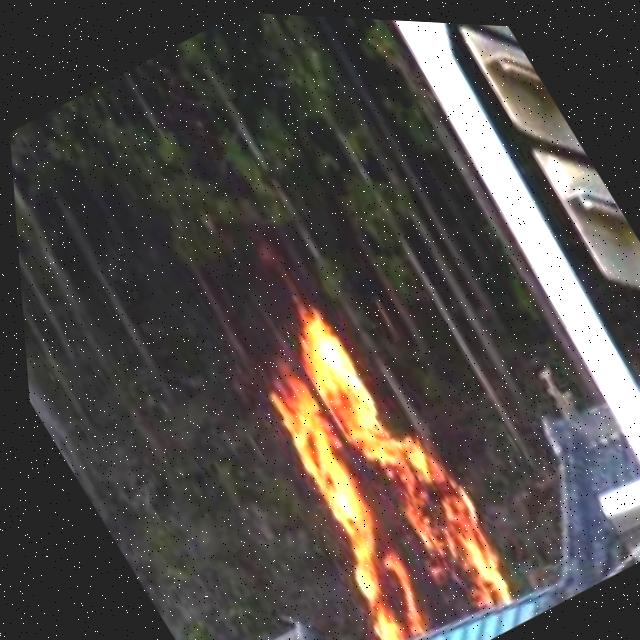Fire: (208, 295, 526, 640)
